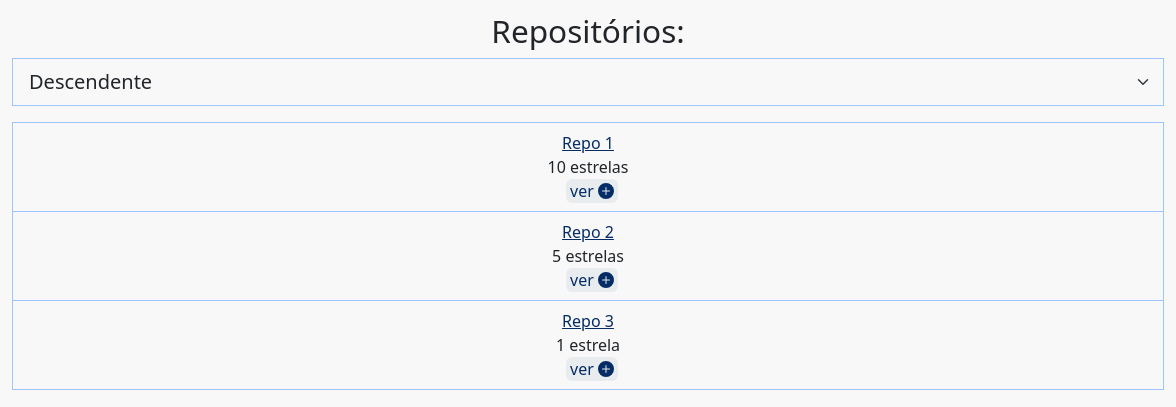
Components :: RepoList › should handle sort order change
Select "Ascendente" in the dropdown at {"x": 588, "y": 82}, box [12,58,1164,106]
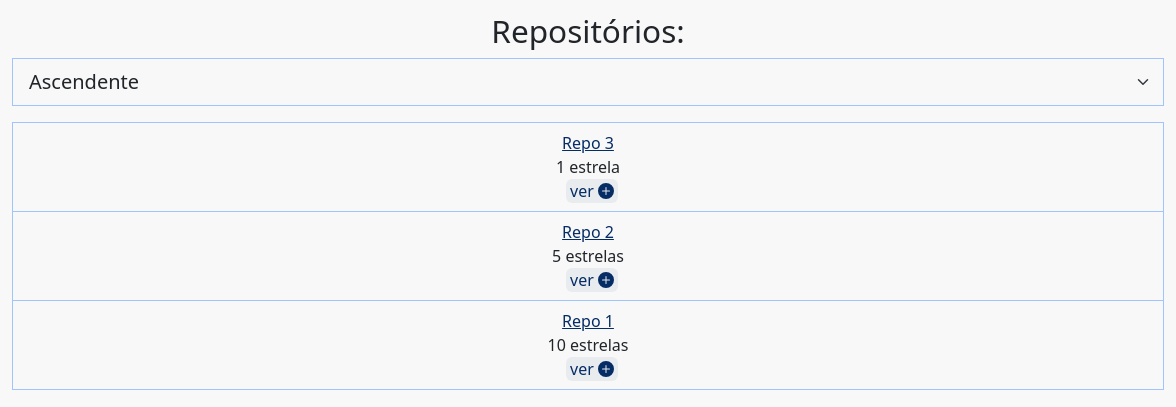
Now the list item with test id "repo-1" shows "Repo 1", box [562,309,614,333]
Now the list item with test id "repo-1" shows "10 estrelas", box [12,301,1164,390]
Now the list item with test id "repo-3" shows "Repo 3", box [562,131,614,155]
